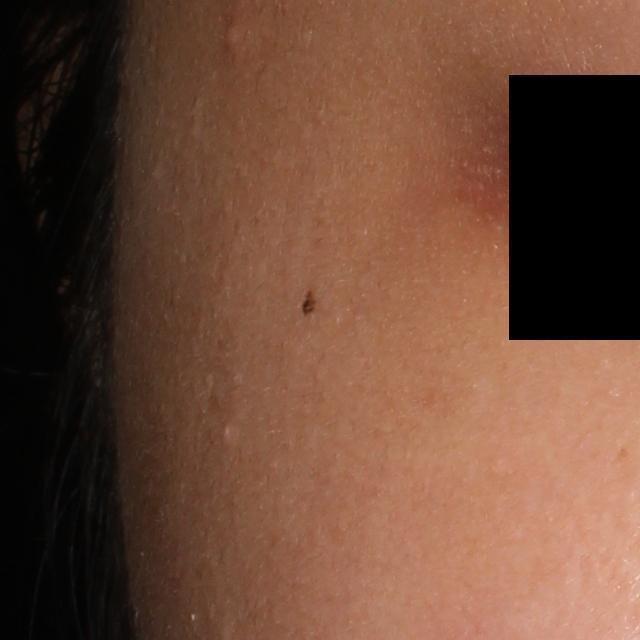comedo: (217, 421, 231, 443)
nevus: (296, 284, 318, 320)
papule: (219, 22, 243, 53)
